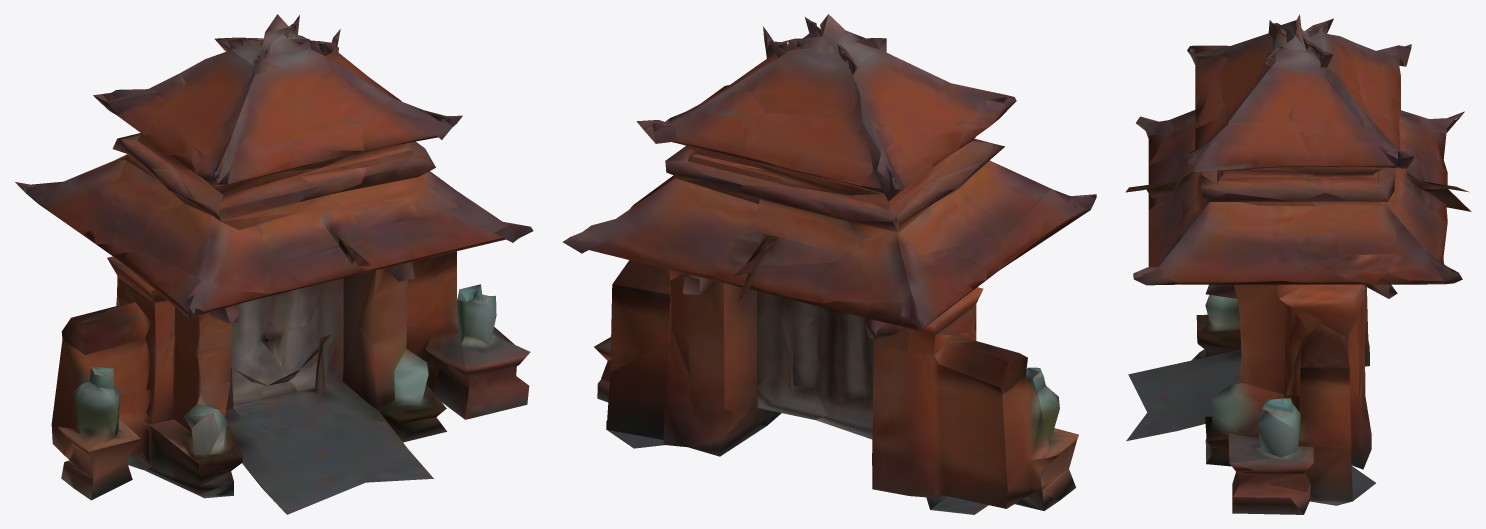
Rendered from gerbang_rumah_1_lod2.glb.
The picture shows the model from 3 angles, left to right: view 1: azimuth 30°, elevation 25°; view 2: azimuth 150°, elevation 25°; view 3: azimuth 270°, elevation 25°; orthographic projection. The views are drawn at different scales.
Parts seen in each view (by area): view 1: tripo_node_a6c44f9a-b3c0-457c-9d92-baeb67318961; view 2: tripo_node_a6c44f9a-b3c0-457c-9d92-baeb67318961; view 3: tripo_node_a6c44f9a-b3c0-457c-9d92-baeb67318961.
Boxes of the visible parts, box(x1,y1,x2,y2) form: tripo_node_a6c44f9a-b3c0-457c-9d92-baeb67318961: box(15, 14, 533, 514); tripo_node_a6c44f9a-b3c0-457c-9d92-baeb67318961: box(563, 14, 1096, 514); tripo_node_a6c44f9a-b3c0-457c-9d92-baeb67318961: box(1125, 14, 1471, 514).
Bounding box in the file's own units: 0.9993 × 0.9299 × 0.7266.
1 material, 1 textured.
